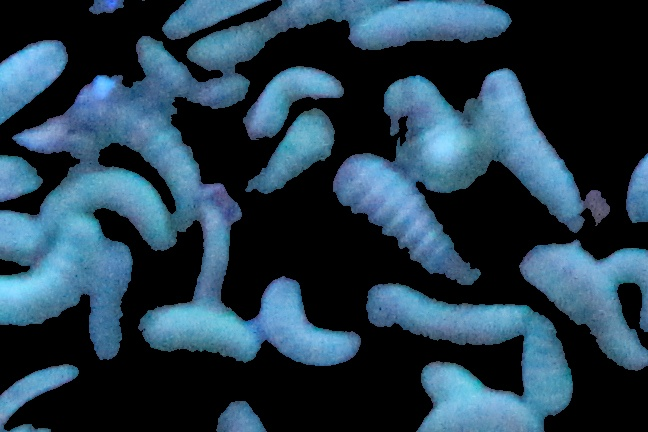larvae: (347, 162, 470, 271), (528, 239, 626, 369), (118, 88, 199, 229), (500, 83, 577, 225), (1, 224, 96, 328), (48, 172, 178, 245), (400, 83, 482, 192), (209, 1, 335, 66), (374, 289, 517, 341), (270, 280, 361, 360), (248, 115, 335, 196), (245, 67, 344, 137), (1, 36, 65, 136), (416, 390, 544, 432), (353, 8, 509, 41), (1, 364, 82, 425), (147, 304, 246, 352), (131, 37, 222, 88), (524, 310, 572, 404), (604, 244, 648, 330), (192, 196, 226, 305), (95, 243, 126, 357), (165, 1, 281, 31), (1, 208, 46, 271), (1, 160, 43, 203), (431, 366, 484, 396)
